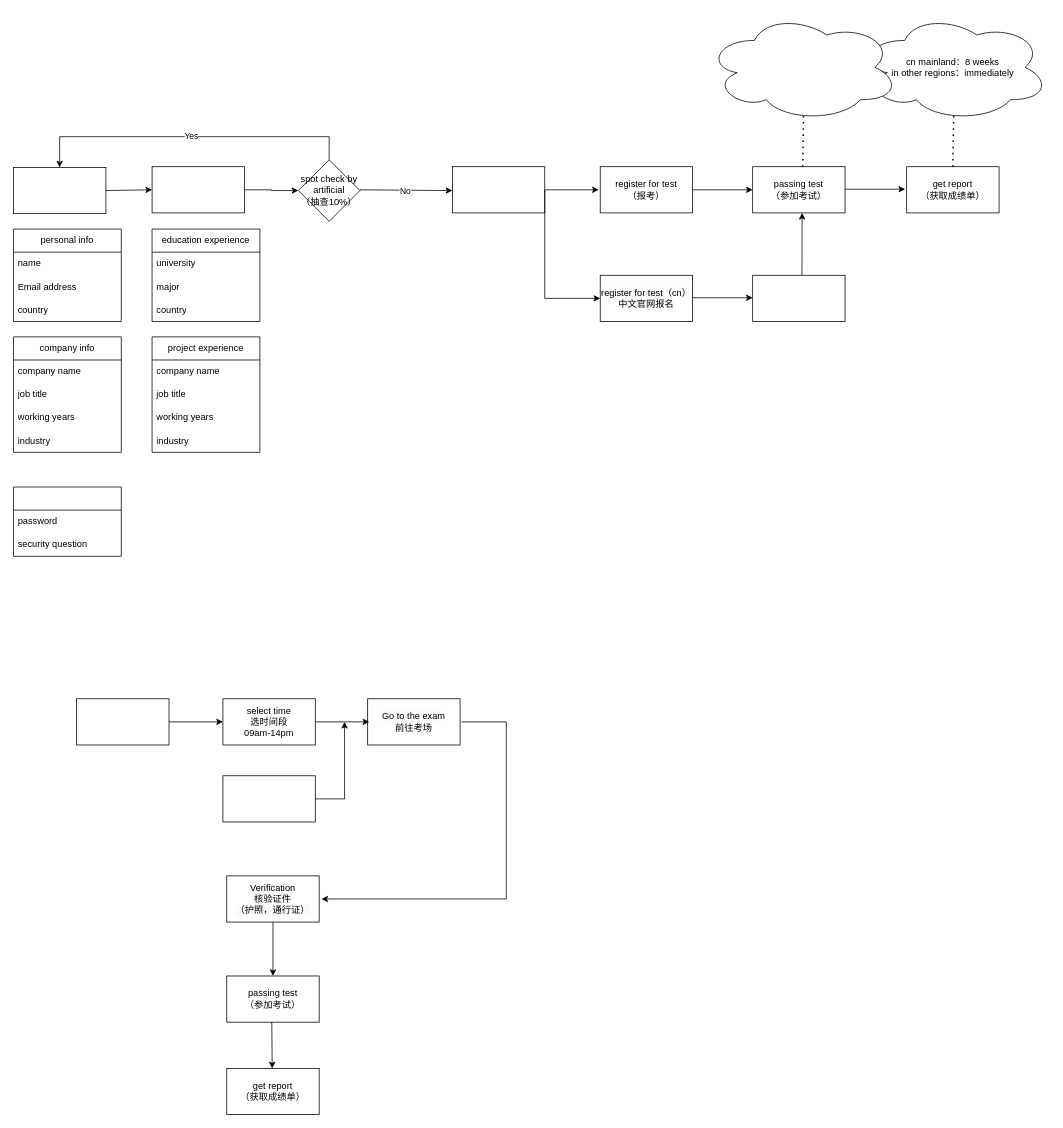
Some shapes in this 1063 by 1128 pixel diagram are drawn without their labels. The box of each missing label's shape, as (x1, y1, x2, y2) in pixels:
account info: (13, 486, 121, 556)
cn mainland：4 times per year in other regions：15mins gap / per working days: (706, 13, 899, 121)
pay with visa/master visa/master卡付考费，绑定3位校验码: (76, 698, 169, 745)
prepare passport 准备证件 （护照,通行证）: (222, 775, 315, 822)
print Ticket（cn） 打印准考证: (752, 275, 845, 321)
register an account （注册账号）: (13, 167, 106, 214)
submit info (提交个人信息): (151, 166, 244, 213)
waiting 5 working days for audit （审核等5天）: (452, 166, 545, 213)
